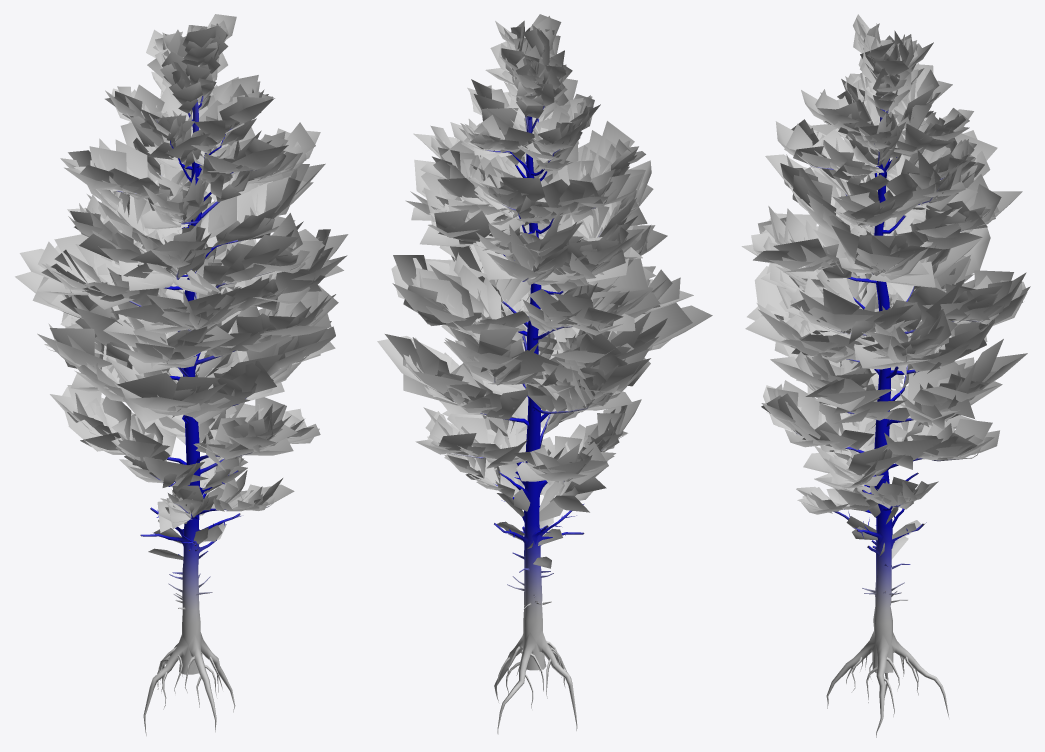
Rendered from Pine_01_LOD1.fbx.
3 renders of one model, left to right at view 1: azimuth 30°, elevation 25°; view 2: azimuth 150°, elevation 25°; view 3: azimuth 270°, elevation 25°, orthographic.
Visible parts, largest first — view 1: polySurface2852; view 2: polySurface2852; view 3: polySurface2852.
Boxes of the visible parts, x1,y1,x2,y2 form: polySurface2852: (15, 14, 348, 735); polySurface2852: (377, 14, 712, 734); polySurface2852: (741, 14, 1030, 737).
Bounding box in the file's own units: 1119 × 2794 × 1038.
